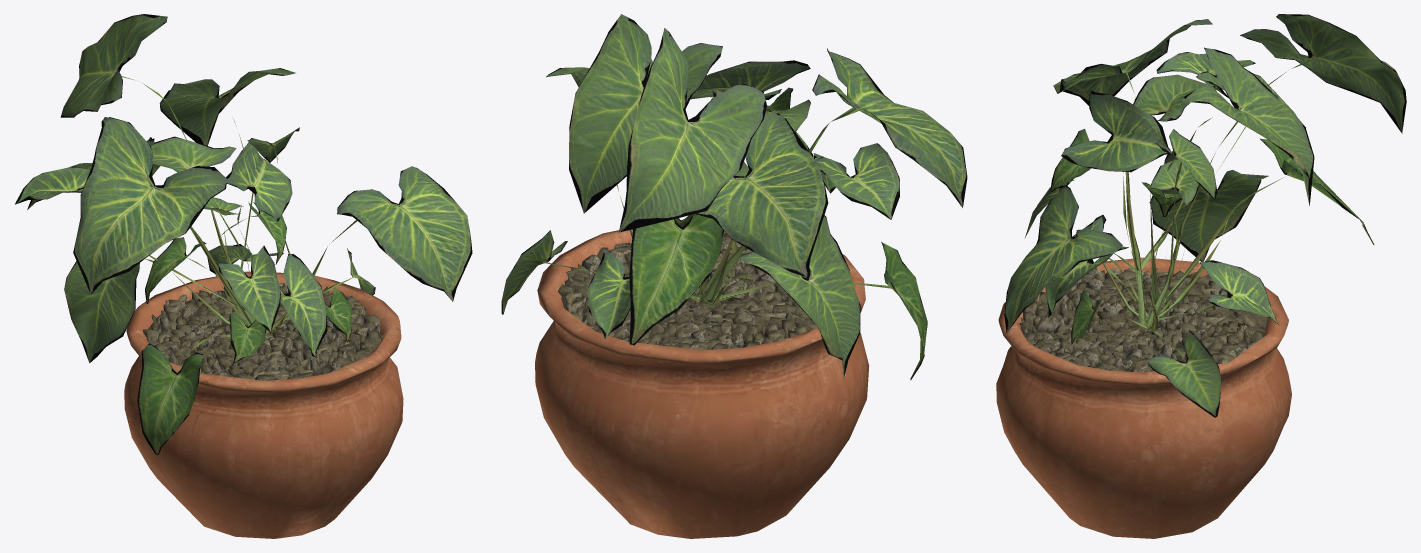
The model's file is potted_plant_02.glb.
The picture shows the model from 3 angles, left to right: view 1: azimuth 30°, elevation 25°; view 2: azimuth 150°, elevation 25°; view 3: azimuth 270°, elevation 25°; orthographic projection. The views are drawn at different scales.
Visible parts, largest first — view 1: potted_plant_02_leaves, potted_plant_02_pot; view 2: potted_plant_02_leaves, potted_plant_02_pot; view 3: potted_plant_02_pot, potted_plant_02_leaves.
Part boxes in pixels (x1=…): potted_plant_02_leaves: x1=15, y1=14, x2=472, y2=454; potted_plant_02_pot: x1=124, y1=271, x2=403, y2=538; potted_plant_02_leaves: x1=501, y1=14, x2=967, y2=380; potted_plant_02_pot: x1=535, y1=229, x2=869, y2=538; potted_plant_02_pot: x1=996, y1=257, x2=1291, y2=538; potted_plant_02_leaves: x1=1004, y1=14, x2=1406, y2=417.
Size of the model in its own units: 0.7009 by 0.8401 by 0.6561.
2 materials, 2 textured.
